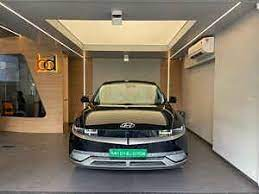Honda Ioniq: (65, 74, 195, 185)
